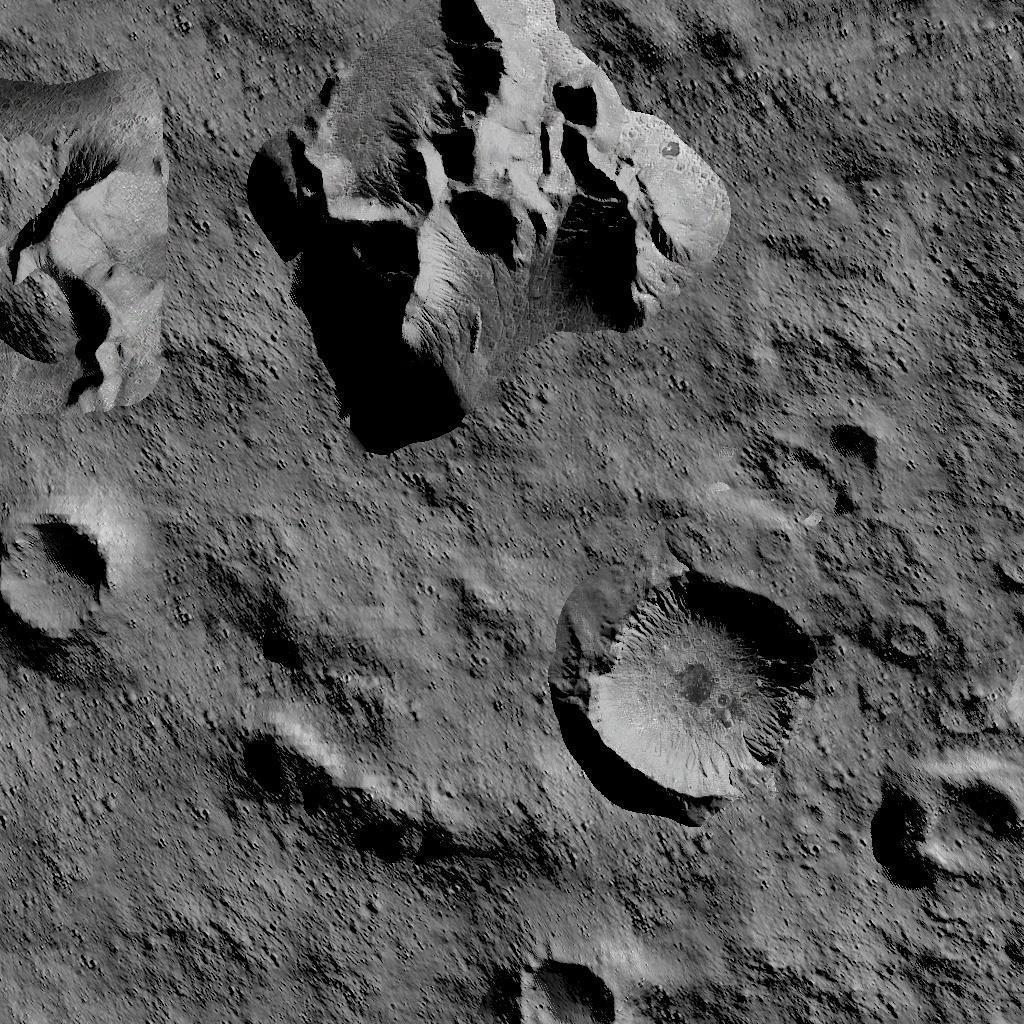Boulders: (248, 2, 728, 458), (223, 708, 563, 880), (0, 68, 163, 422)
Crater: (578, 568, 818, 810), (866, 758, 1024, 896), (0, 512, 118, 656), (498, 955, 626, 1024)
Plan surface: (743, 2, 1024, 398), (0, 668, 211, 1024), (221, 890, 488, 1024)
